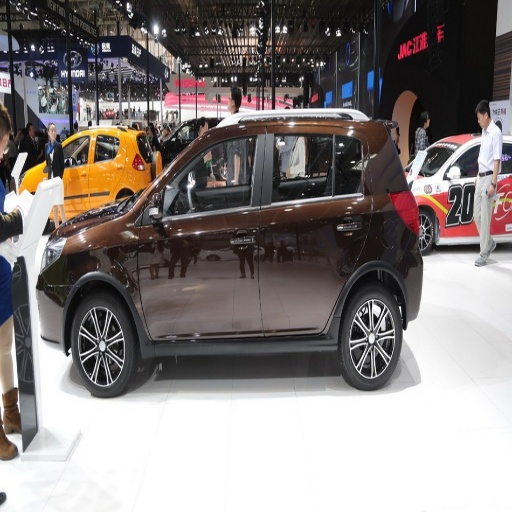back_left_door: (257, 124, 369, 330)
front_left_door: (138, 126, 265, 339)
